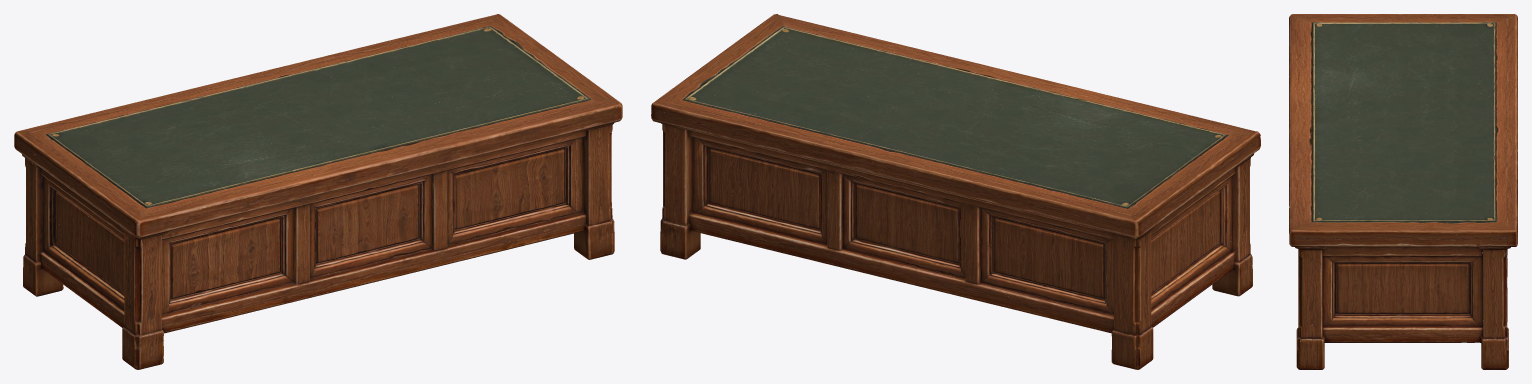
Rendered from reception_counter.glb.
The picture shows the model from 3 angles, left to right: view 1: azimuth 30°, elevation 25°; view 2: azimuth 150°, elevation 25°; view 3: azimuth 270°, elevation 25°; orthographic projection. The views are drawn at different scales.
Visible parts, largest first — view 1: reception_counter; view 2: reception_counter; view 3: reception_counter.
Part boxes in pixels (bbox=[...]): reception_counter: bbox=[14, 14, 622, 369]; reception_counter: bbox=[651, 14, 1260, 369]; reception_counter: bbox=[1289, 14, 1517, 369].
Size of the model in its own units: 2.8 by 0.85 by 1.24.
Materials: 1 (1 with a texture image).
